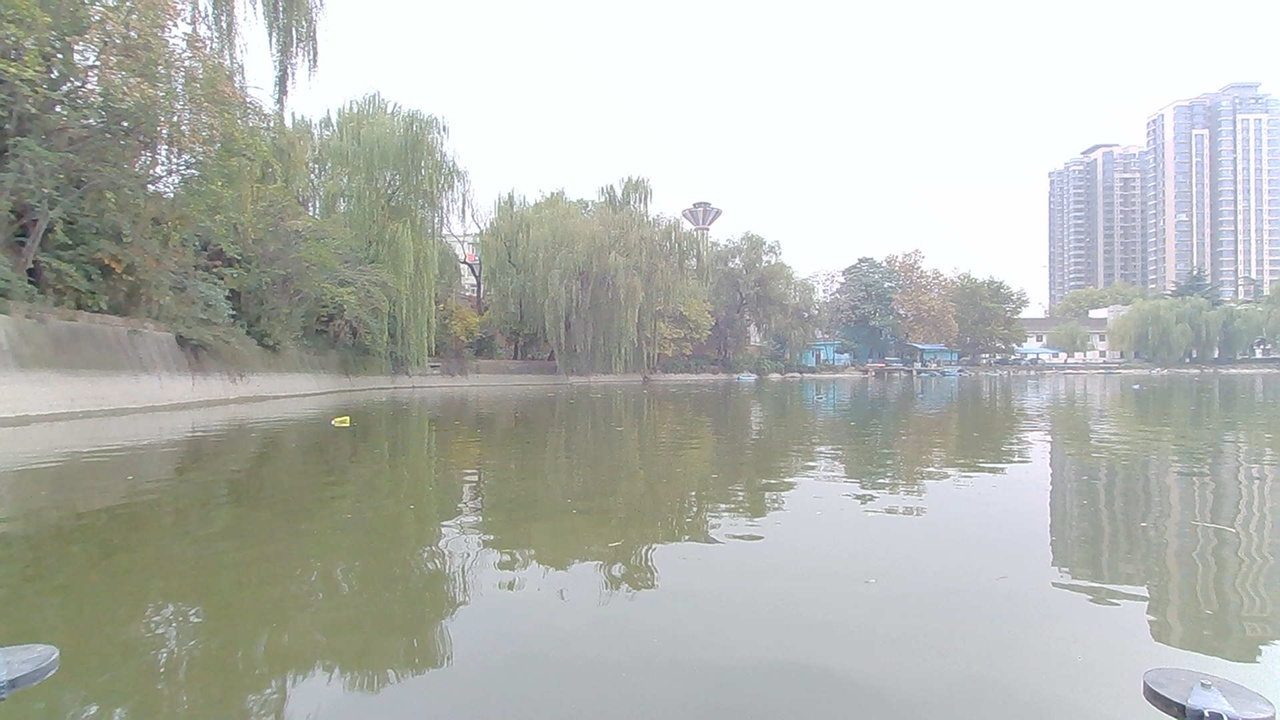bottle: (326, 411, 360, 434), (802, 388, 831, 403)
